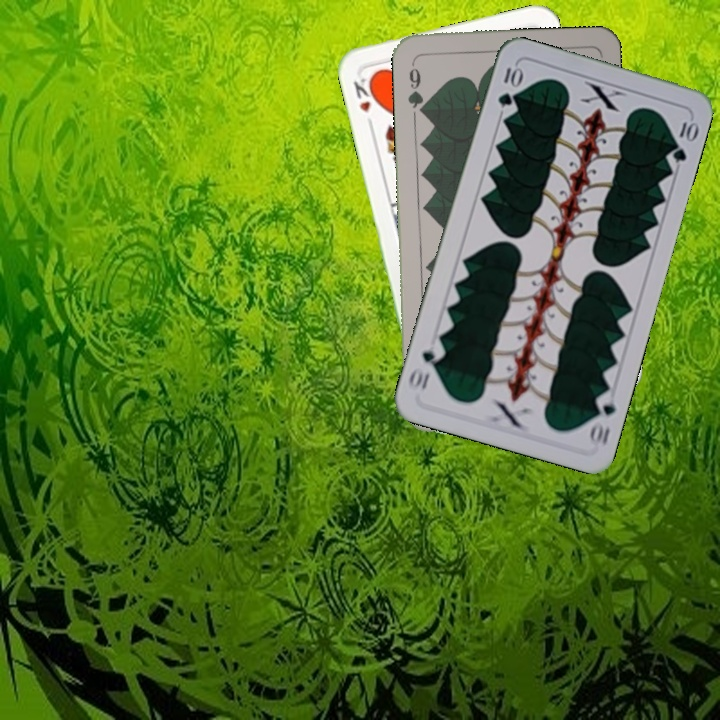G10: (585, 388, 618, 449), (493, 61, 524, 110)
G9: (403, 57, 428, 116)
HK: (349, 73, 380, 116)
